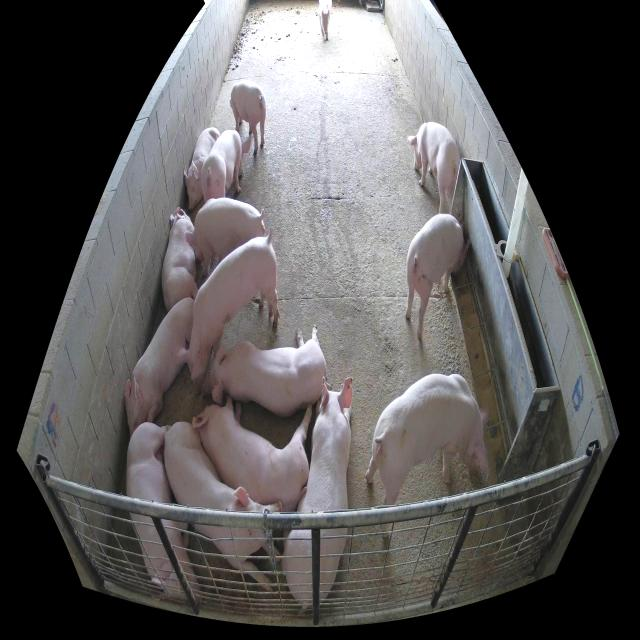pig: (364, 374, 490, 538), (164, 422, 284, 594), (175, 230, 280, 396), (283, 375, 352, 610), (126, 423, 204, 605), (192, 398, 313, 512), (212, 323, 327, 417), (125, 299, 194, 438), (405, 214, 470, 345), (184, 198, 265, 274), (408, 122, 461, 213), (162, 207, 198, 313), (201, 129, 251, 202), (183, 128, 219, 209), (230, 80, 266, 156), (316, 1, 332, 44)
